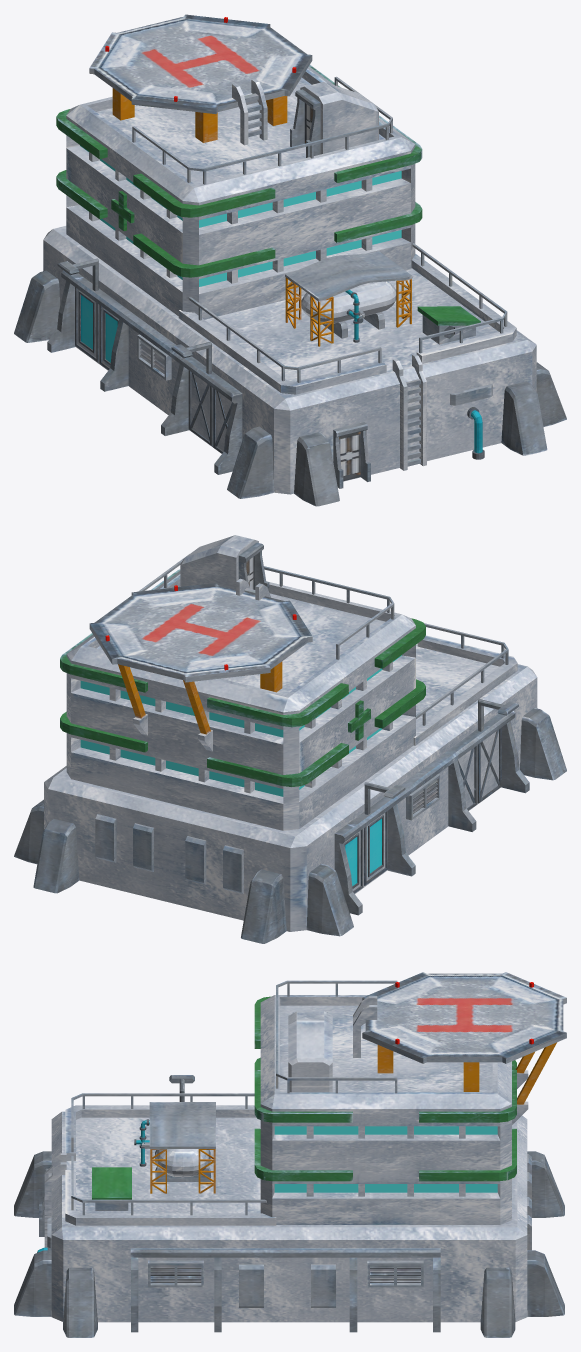
File: HospitalValle.obj
3 renders of one model, top to bottom at view 1: azimuth 30°, elevation 25°; view 2: azimuth 150°, elevation 25°; view 3: azimuth 270°, elevation 25°, orthographic. The views are drawn at different scales.
Visible parts, largest first — view 1: Cube.052_Cube.048; view 2: Cube.052_Cube.048; view 3: Cube.052_Cube.048.
Part boxes in pixels (left/top/right/bottom): Cube.052_Cube.048: left=14, top=14, right=566, bottom=506; Cube.052_Cube.048: left=14, top=535, right=566, bottom=943; Cube.052_Cube.048: left=14, top=972, right=566, bottom=1337.
Bounding box in the file's own units: 4.25 × 3.32 × 6.25.
2 materials, 2 textured.
